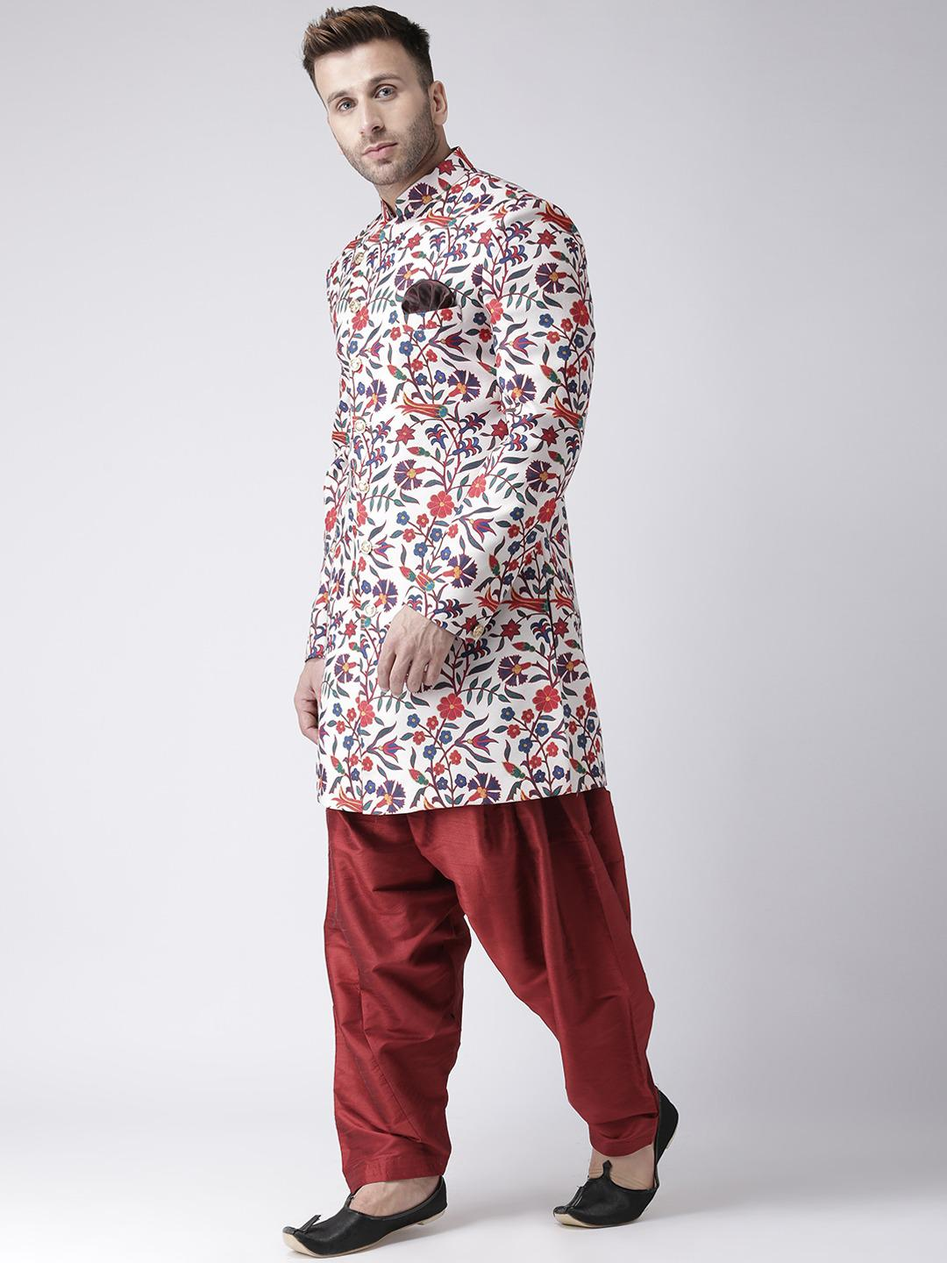Design Sherwani: (302, 146, 608, 817)
